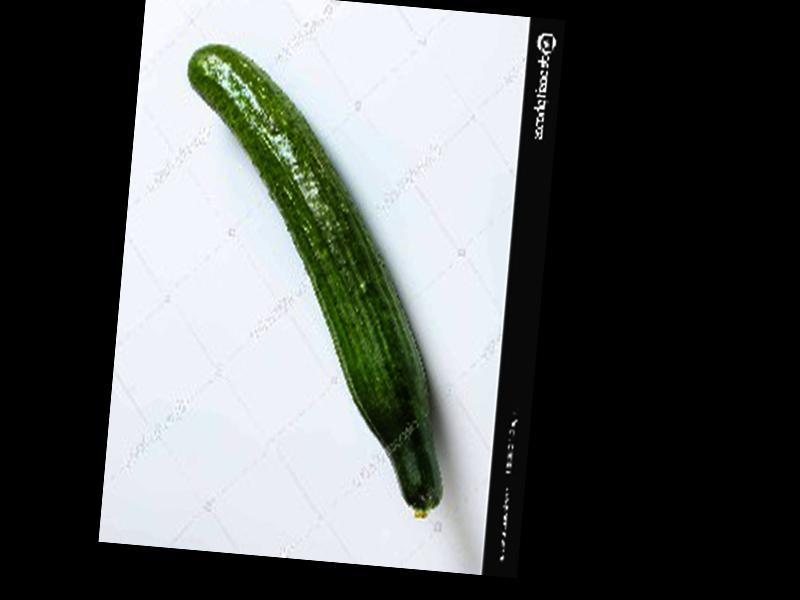Cucumber: (151, 44, 476, 519)
